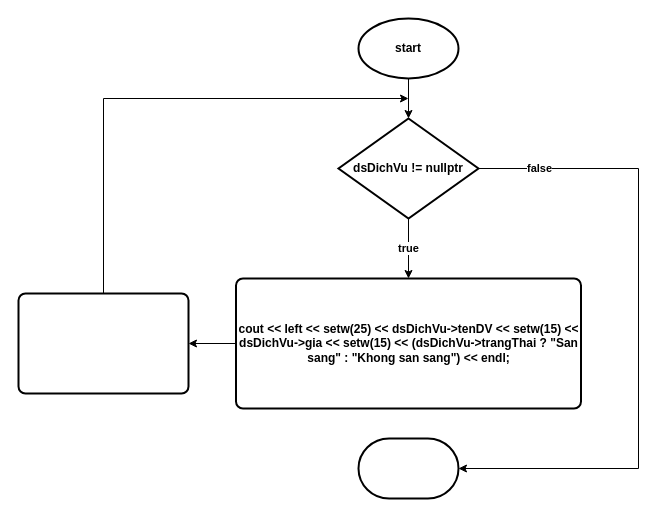
The diagram is 664 pixels wide and 516 high, and some of its shapes have lost their labels. The shapes that lost their labels are listed below. From the top down, each one's centre as x and y in pixels, then its label:
the point at 103,343: dsDichVu = dsDichVu->next
the point at 408,468: end
